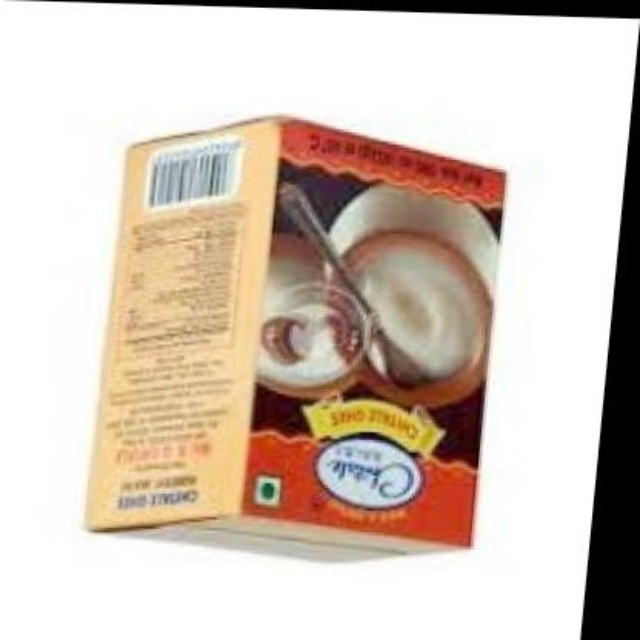trash: (86, 117, 503, 545)
